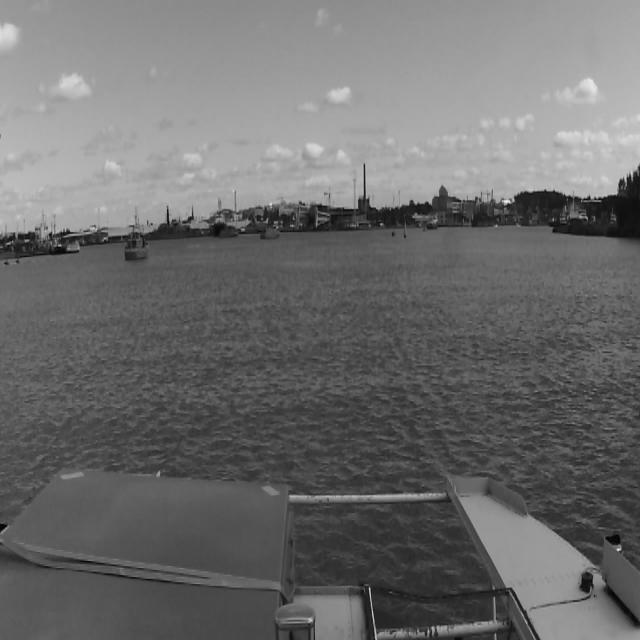buoy: (402, 217, 410, 239)
ship: (123, 208, 148, 260), (550, 194, 590, 226), (426, 213, 440, 236), (261, 225, 281, 237)
